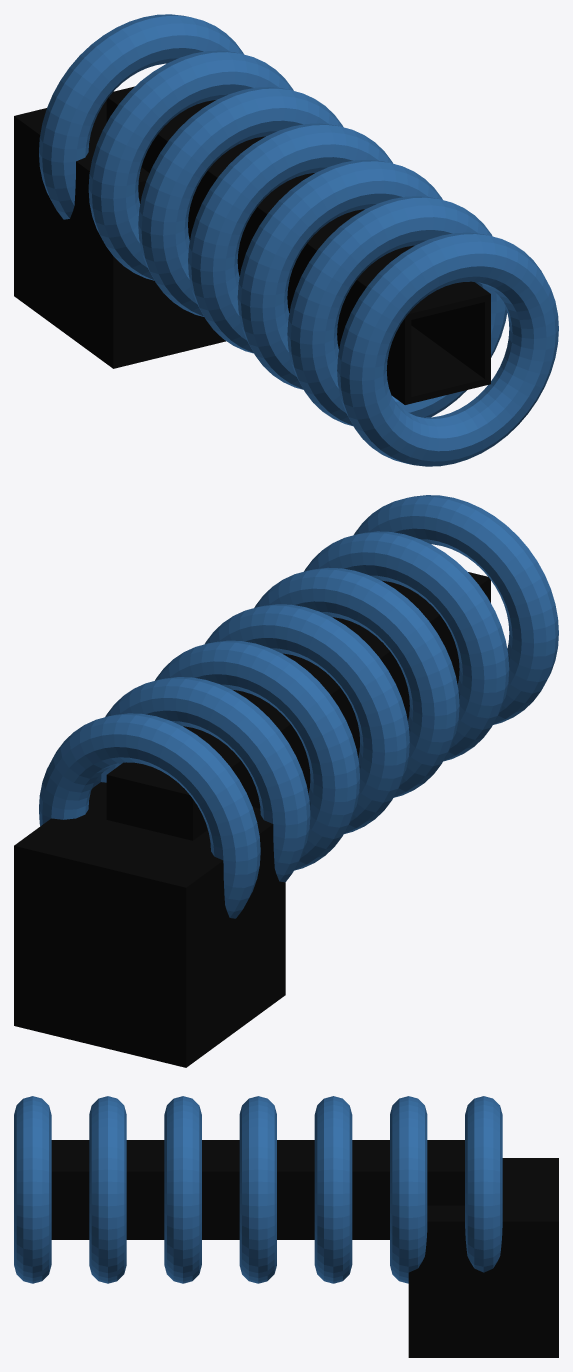
The model's file is cannon.obj.
3 views of the same model, one above another, from view 1: azimuth 30°, elevation 25°; view 2: azimuth 150°, elevation 25°; view 3: azimuth 270°, elevation 25° (orthographic). The views are drawn at different scales.
Parts seen in each view (by area): view 1: Torus, Cube.002; view 2: Torus, Cube.002; view 3: Torus, Cube.002.
Boxes of the visible parts, x1,y1,x2,y2 form: Torus: [39, 14, 558, 466]; Cube.002: [14, 86, 490, 404]; Torus: [39, 495, 558, 918]; Cube.002: [14, 572, 490, 1067]; Torus: [14, 1096, 502, 1283]; Cube.002: [51, 1140, 558, 1357].
Size of the model in its own units: 2.5 by 3.25 by 7.25.
